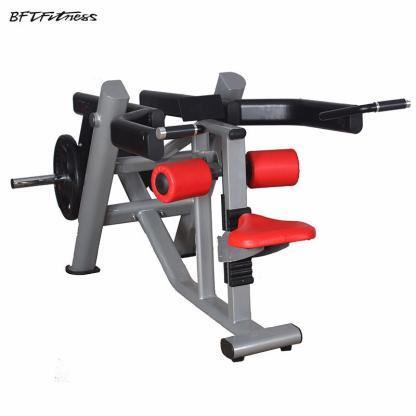seated dip machine: (10, 72, 414, 366)
